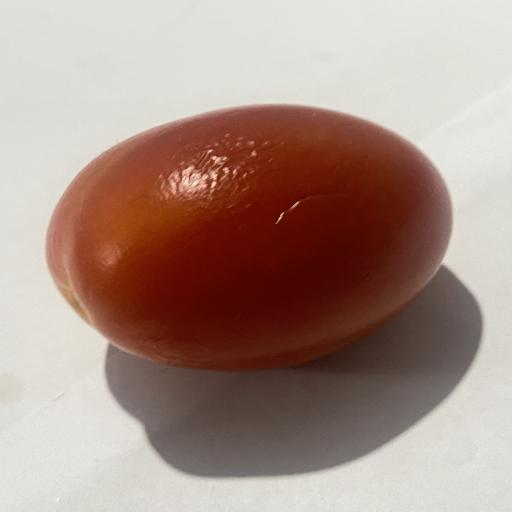overipe: (46, 105, 452, 370)
